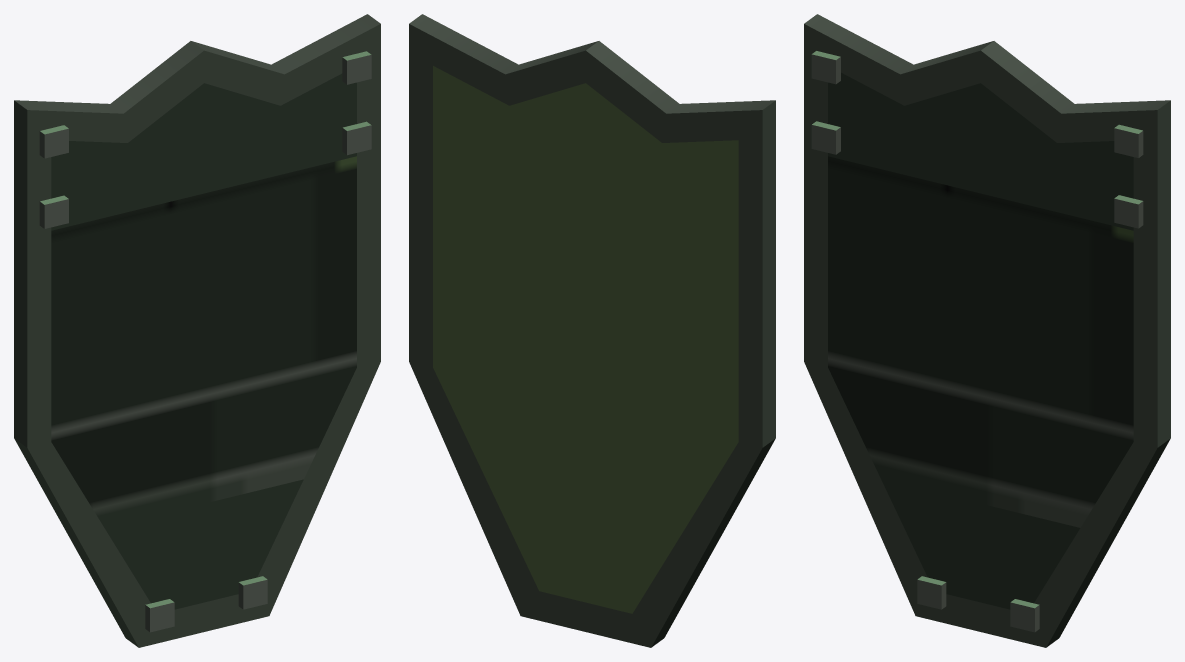
The model's file is SF_Wep_Human_Shield_01.glb.
3 views of the same model, side by side, from view 1: azimuth 30°, elevation 25°; view 2: azimuth 150°, elevation 25°; view 3: azimuth 330°, elevation 25° (orthographic).
Parts seen in each view (by area): view 1: SF_Wep_Human_Shield_01; view 2: SF_Wep_Human_Shield_01; view 3: SF_Wep_Human_Shield_01.
Part boxes in pixels (box(x1,y1,x2,y2)): SF_Wep_Human_Shield_01: box(14, 14, 380, 647); SF_Wep_Human_Shield_01: box(409, 14, 775, 647); SF_Wep_Human_Shield_01: box(804, 14, 1170, 647).
Size of the model in its own units: 0.00956 by 0.015 by 0.000851.
1 material, 1 textured.
